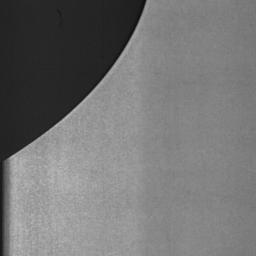Crescent gap: (6, 0, 145, 160)
